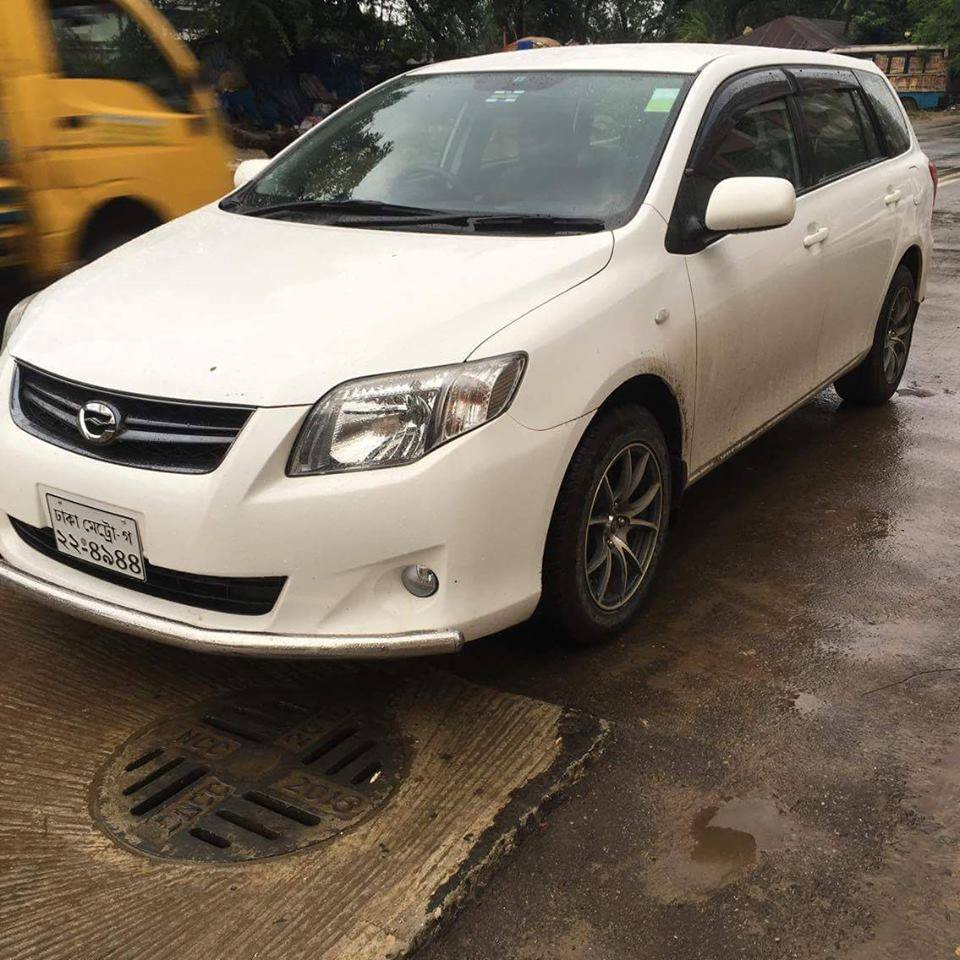registration_plate: (45, 492, 148, 584)
